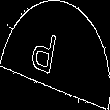P_S: (39, 26, 71, 84)
